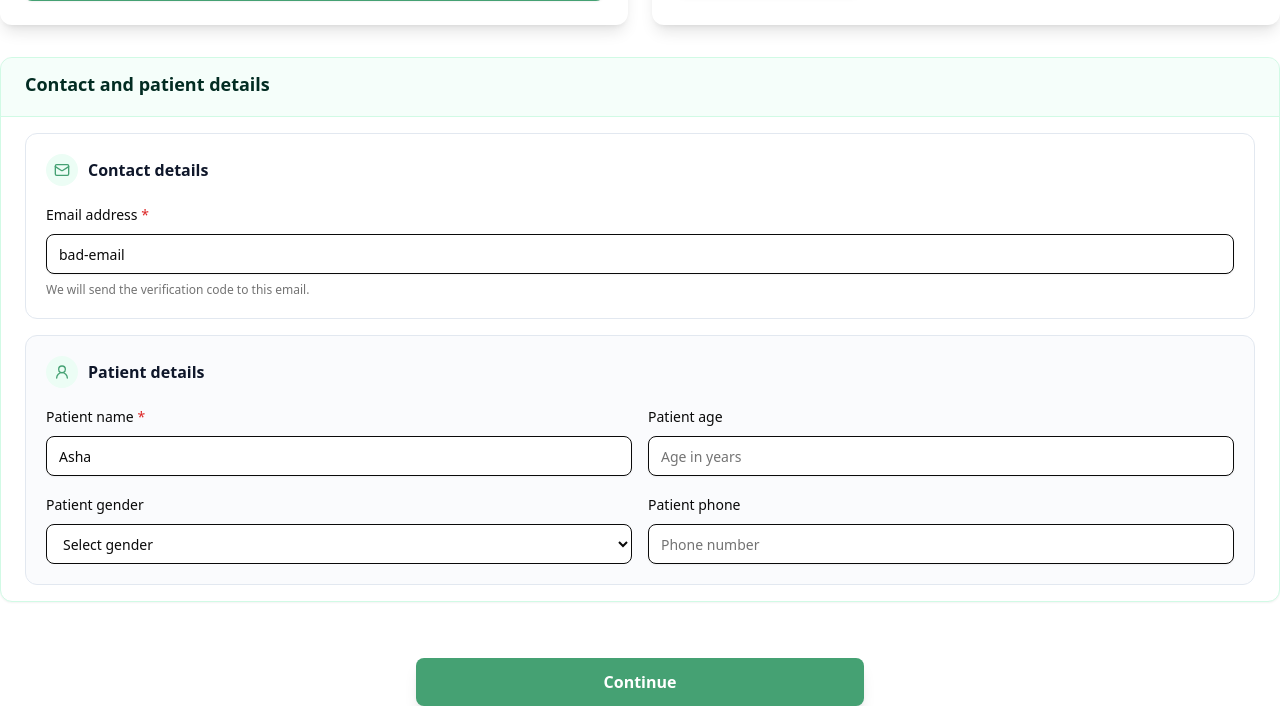
Booking form › blocks draft creation for an invalid contact email
(page scrolled)
Click the button "Continue". click: (640, 682)
box: [416, 658, 864, 705]
(page scrolled)
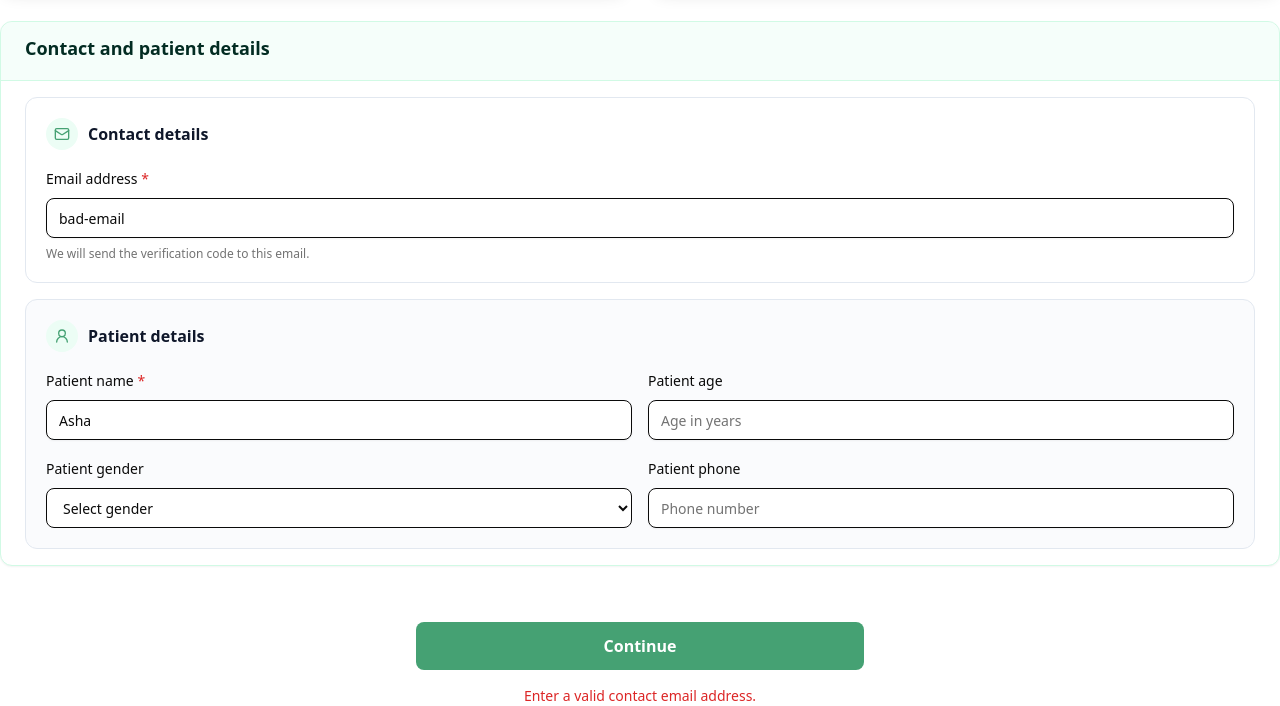
Result: the text "Enter a valid contact email address." is shown at [524, 686, 756, 705]
